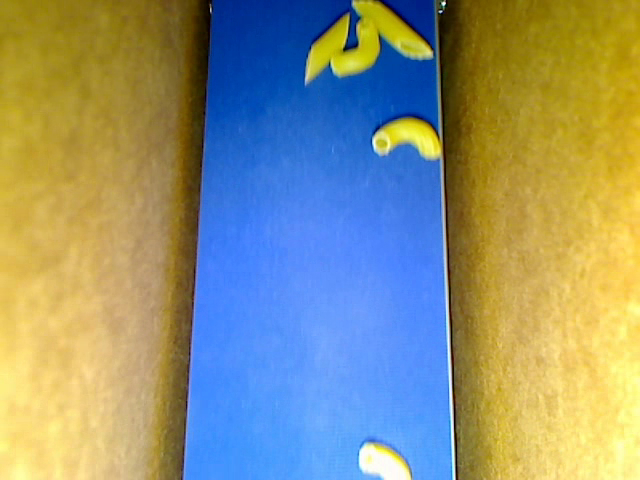elbow: (372, 116, 443, 161), (330, 17, 380, 77), (358, 441, 413, 479)
penne: (352, 1, 433, 62), (303, 12, 349, 85)
